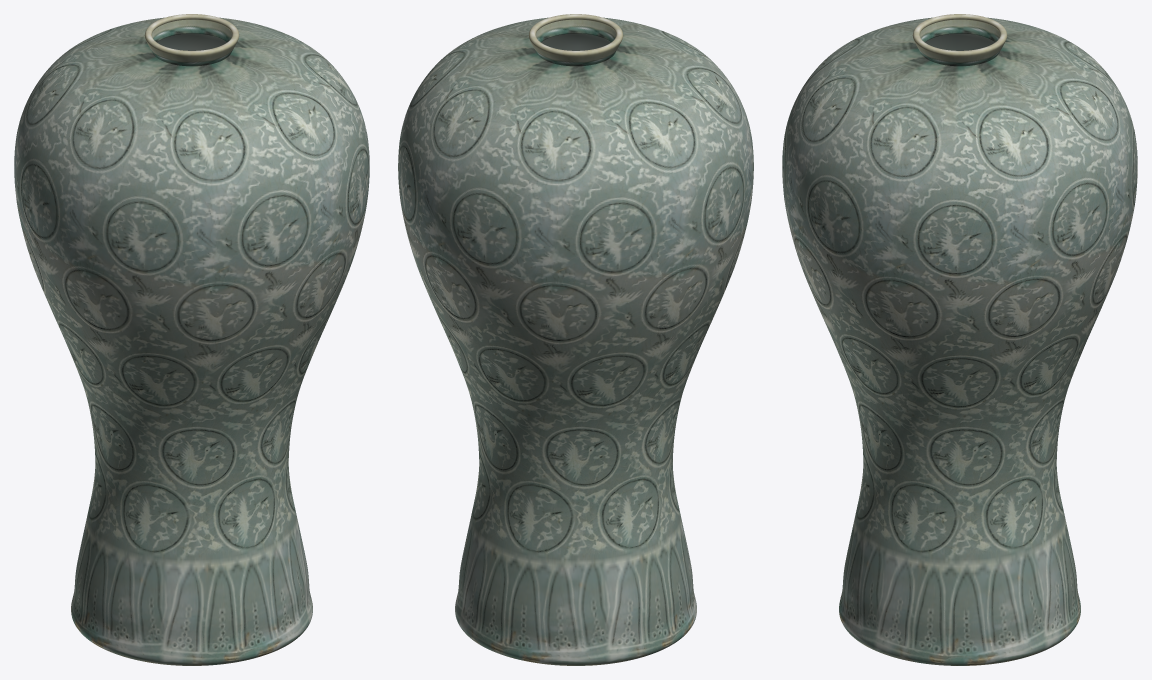
The model's file is celadon-maebyeong-v2.glb.
The picture shows the model from 3 angles, left to right: view 1: azimuth 30°, elevation 25°; view 2: azimuth 150°, elevation 25°; view 3: azimuth 270°, elevation 25°; orthographic projection.
Visible parts, largest first — view 1: Celadon_PhotoReference_Recreation; view 2: Celadon_PhotoReference_Recreation; view 3: Celadon_PhotoReference_Recreation.
Boxes of the visible parts, x1,y1,x2,y2 form: Celadon_PhotoReference_Recreation: (14,14,369,665); Celadon_PhotoReference_Recreation: (398,14,753,665); Celadon_PhotoReference_Recreation: (782,14,1137,665).
Size of the model in its own units: 0.2325 by 0.421 by 0.2324.
1 material, 1 textured.
